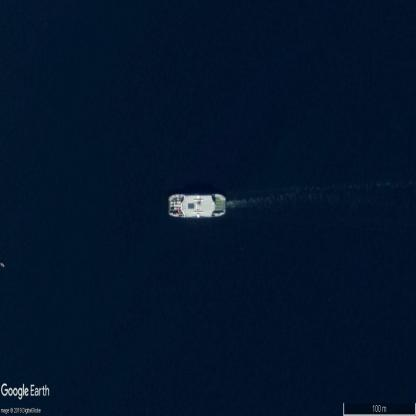ship: (168, 194, 226, 218)
